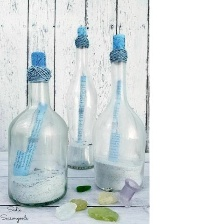bottle: (3, 43, 72, 210), (93, 33, 148, 194), (61, 28, 105, 175)
